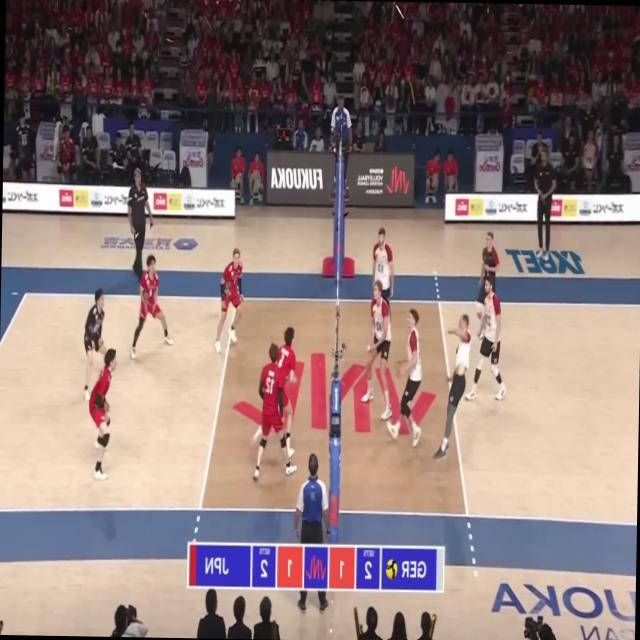referee: (293, 450, 333, 612)
team_one: (432, 313, 472, 463), (464, 274, 506, 402), (386, 306, 423, 448), (361, 280, 394, 420), (474, 230, 500, 314), (370, 226, 395, 306)
team_two: (252, 343, 298, 481), (251, 326, 298, 446), (129, 252, 174, 360), (87, 348, 118, 482), (213, 248, 244, 356), (82, 286, 110, 405)
